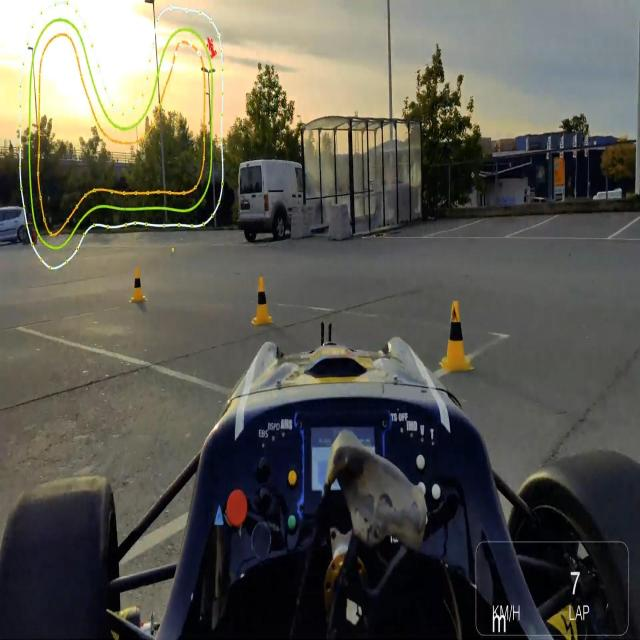yellow_cone: (438, 298, 471, 369), (254, 278, 271, 326), (131, 266, 145, 304)
